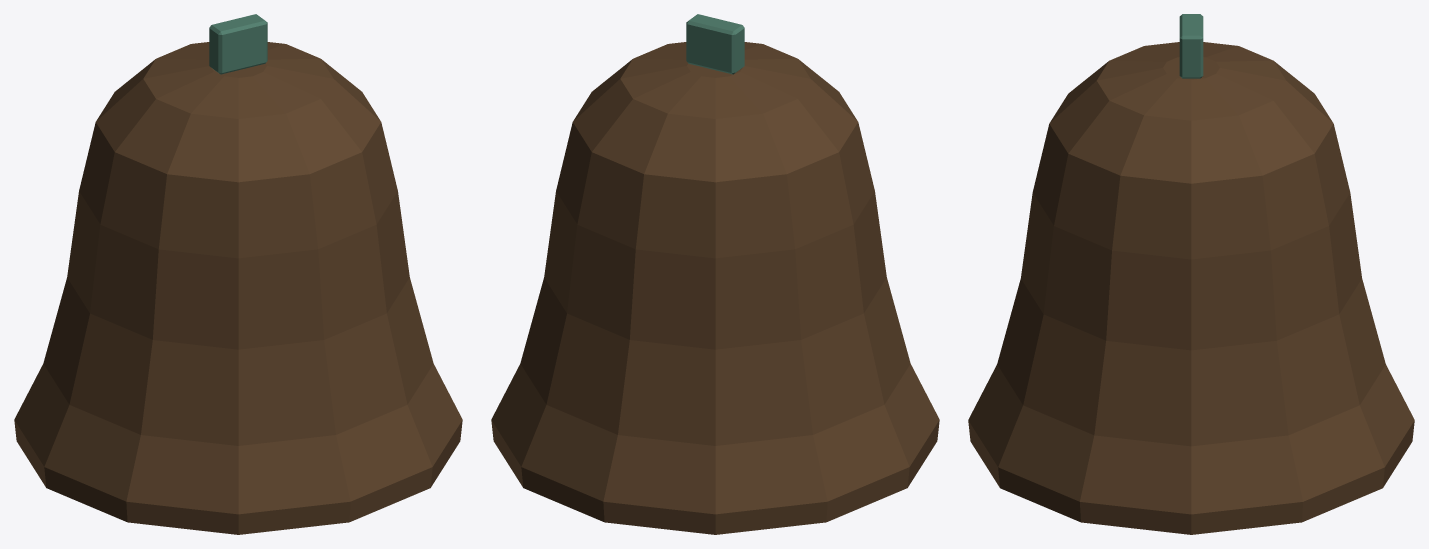
Rendered from Prop_Lab_EchoBell_S05_LOD1.glb.
The picture shows the model from 3 angles, left to right: view 1: azimuth 30°, elevation 25°; view 2: azimuth 150°, elevation 25°; view 3: azimuth 270°, elevation 25°; orthographic projection.
Parts seen in each view (by area): view 1: Prop_Lab_EchoBell_S05; view 2: Prop_Lab_EchoBell_S05; view 3: Prop_Lab_EchoBell_S05.
Boxes of the visible parts, <box> form: Prop_Lab_EchoBell_S05: <box>14,14,462,534</box>; Prop_Lab_EchoBell_S05: <box>491,14,939,534</box>; Prop_Lab_EchoBell_S05: <box>968,14,1414,534</box>.
Bounding box in the file's own units: 0.7446 × 0.7667 × 0.7446.
